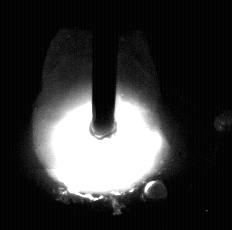arame: (92, 0, 117, 139)
poca: (33, 0, 167, 230)
